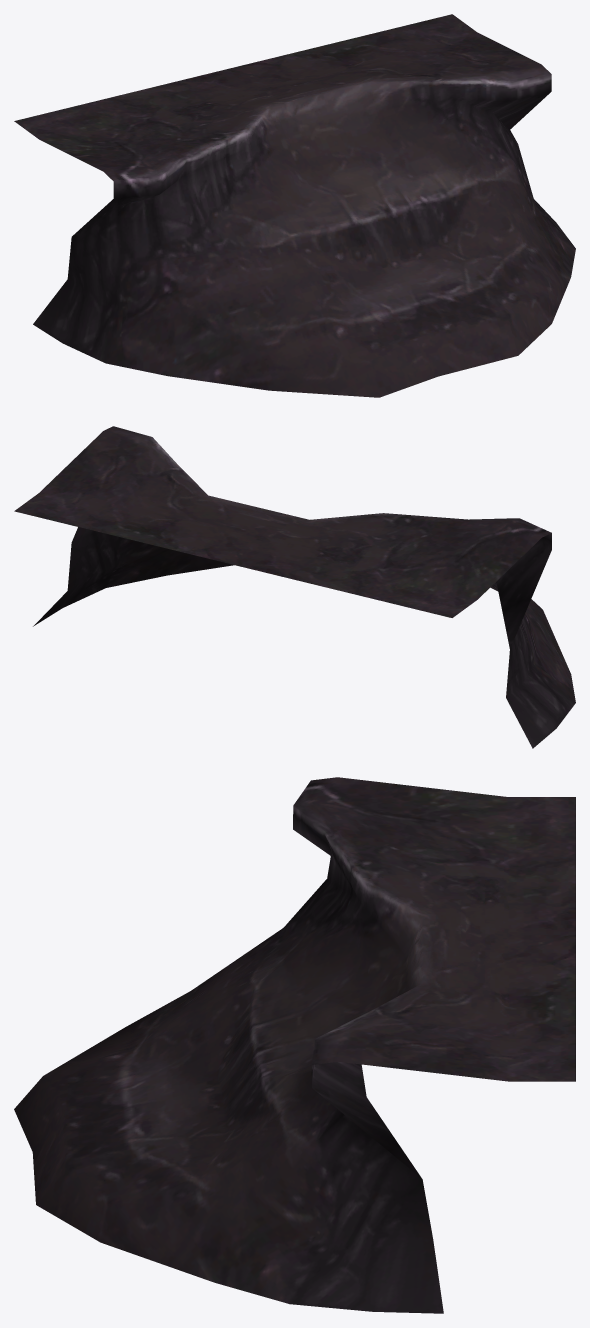
File: cave_quarter_stair_01.fbx
The picture shows the model from 3 angles, top to bottom: view 1: azimuth 30°, elevation 25°; view 2: azimuth 150°, elevation 25°; view 3: azimuth 270°, elevation 25°; orthographic projection. The views are drawn at different scales.
Visible parts, largest first — view 1: cave_tileset/stair01_shadow; view 2: cave_tileset/stair01_shadow; view 3: cave_tileset/stair01_shadow.
Boxes of the visible parts, x1,y1,x2,y2 form: cave_tileset/stair01_shadow: (14, 14, 575, 397); cave_tileset/stair01_shadow: (14, 426, 575, 748); cave_tileset/stair01_shadow: (14, 777, 575, 1313).
Size of the model in its own units: 4.56 by 1.52 by 3.34.
